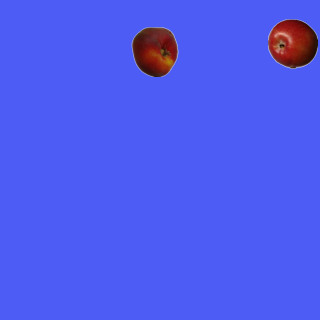Apple Braeburn: (267, 18, 317, 68)
Nectarine Flat: (129, 26, 179, 76)
